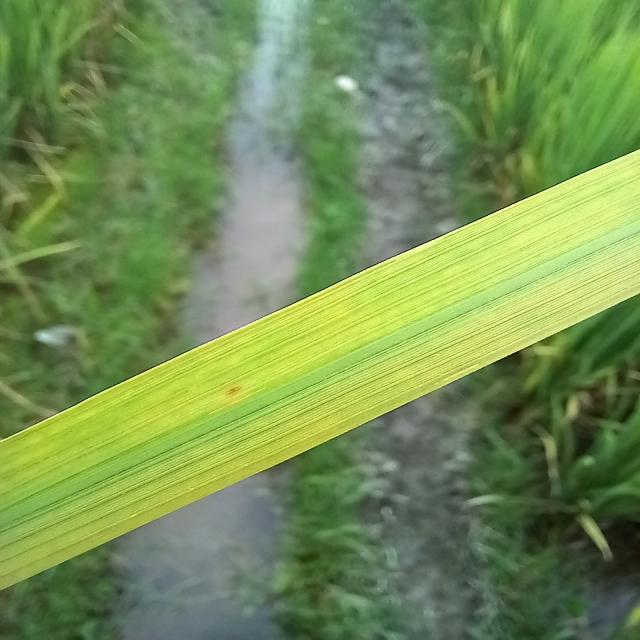Brown_Spot: (228, 385, 239, 398)
